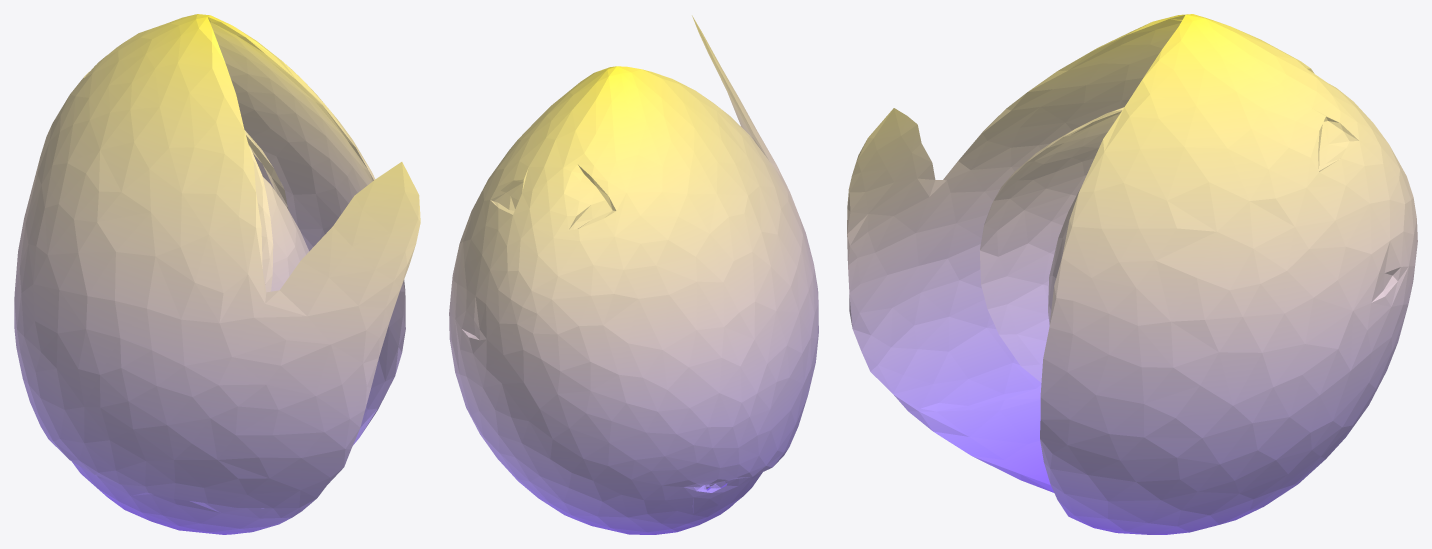
The model's file is 35_cyb_laser_gradient_fish_scales_2876_2026_10_03_544b9f.glb.
3 views of the same model, side by side, from view 1: azimuth 30°, elevation 25°; view 2: azimuth 150°, elevation 25°; view 3: azimuth 270°, elevation 25° (orthographic). The views are drawn at different scales.
Visible parts, largest first — view 1: geometry_0; view 2: geometry_0; view 3: geometry_0.
Part boxes in pixels (box(x1,y1,x2,y2)): geometry_0: box(14, 14, 420, 534); geometry_0: box(449, 15, 818, 534); geometry_0: box(847, 14, 1417, 534).
Bounding box in the file's own units: 0.6043 × 0.864 × 0.8771.
